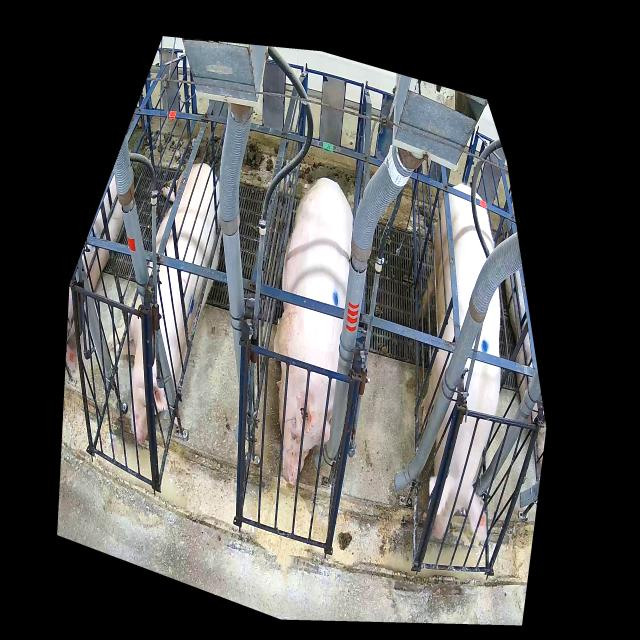pig: (107, 163, 222, 446), (419, 184, 500, 539), (273, 177, 353, 486)
